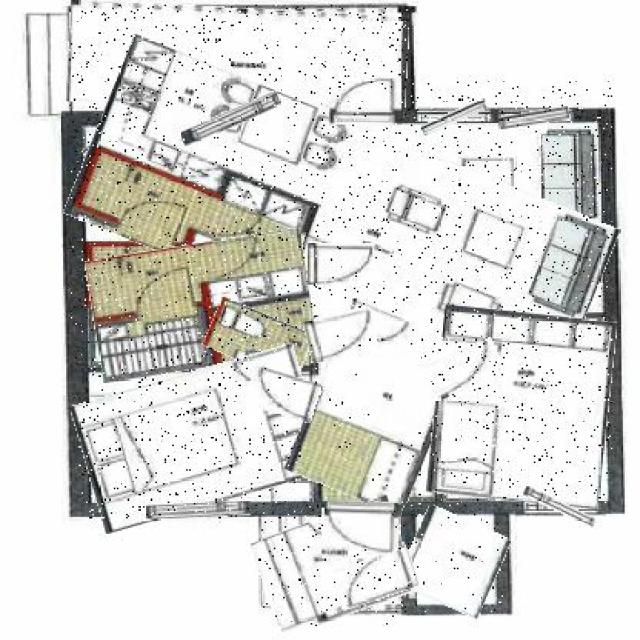door: (335, 552, 417, 605), (323, 502, 399, 558), (426, 343, 503, 394), (246, 369, 319, 418), (306, 311, 377, 360), (329, 78, 402, 124), (308, 243, 372, 285)
window: (179, 100, 283, 137), (521, 495, 597, 520), (418, 104, 489, 128), (146, 502, 251, 518), (498, 109, 570, 126)
zone: (71, 80, 612, 362), (78, 358, 322, 518), (68, 5, 409, 114), (432, 309, 614, 506), (298, 308, 456, 508), (90, 237, 312, 375), (258, 505, 416, 626), (403, 511, 505, 612), (204, 304, 310, 376)
